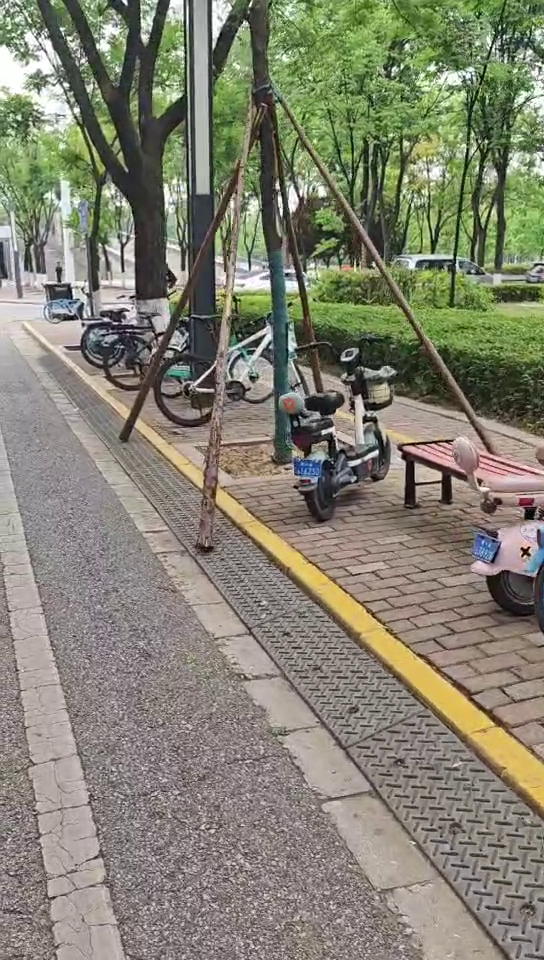others: (284, 333, 405, 530), (155, 302, 320, 435)
